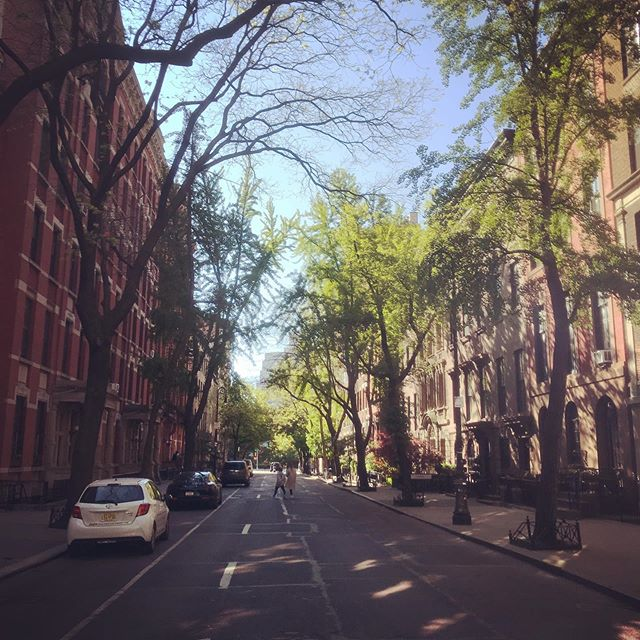building: (352, 19, 640, 519), (1, 7, 190, 480)
car: (61, 472, 177, 561), (168, 475, 231, 520)
sidewalk: (363, 484, 640, 605)
street: (34, 478, 616, 640)
tree: (41, 1, 330, 499), (434, 1, 635, 544), (300, 184, 464, 495), (170, 193, 290, 490)
